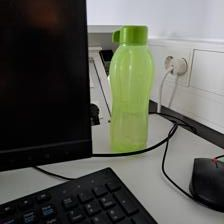bottle: (105, 22, 156, 155)
